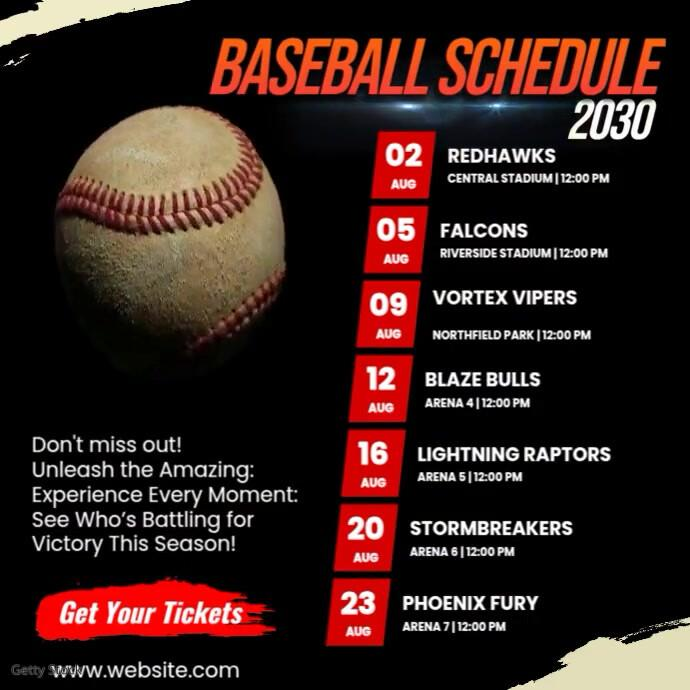baseball: (50, 103, 287, 384)
